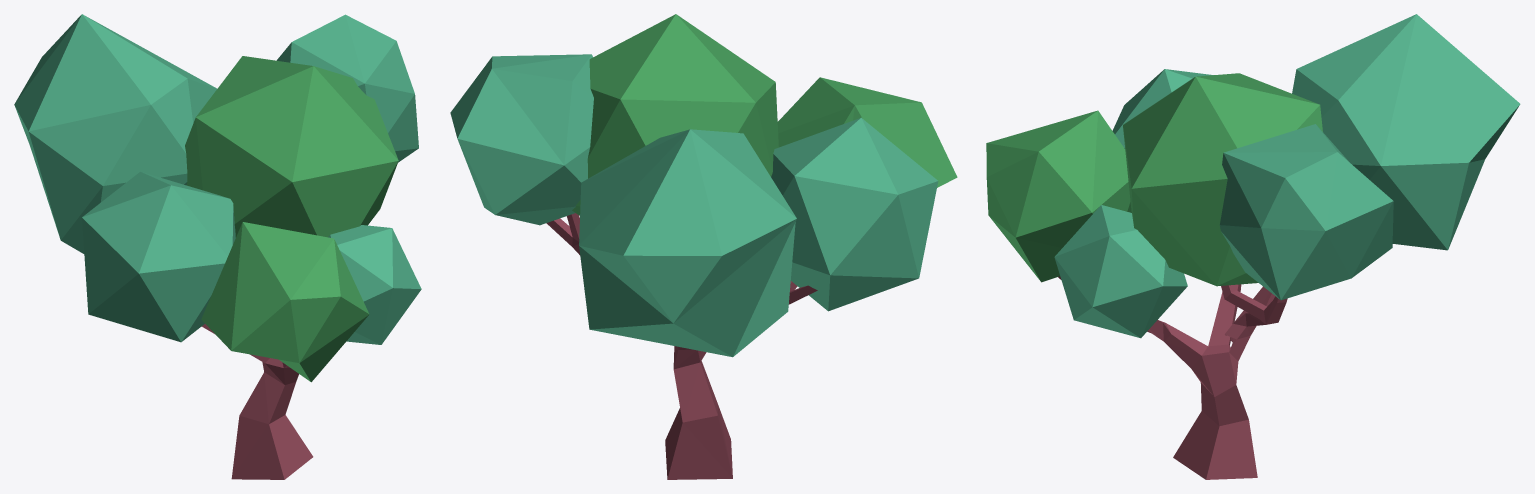
The model's file is big_tree_2.fbx.
3 renders of one model, left to right at view 1: azimuth 30°, elevation 25°; view 2: azimuth 150°, elevation 25°; view 3: azimuth 270°, elevation 25°, orthographic. The views are drawn at different scales.
Visible parts, largest first — view 1: Icosphere.004, Icosphere.002, Icosphere.005, Icosphere.001, Icosphere, wood, Icosphere.003; view 2: Icosphere.002, Icosphere.005, Icosphere, Icosphere.004, Icosphere.001, wood; view 3: Icosphere.002, Icosphere.004, Icosphere, Icosphere.001, wood, Icosphere.003, Icosphere.005.
Boxes of the visible parts, x1=… form: Icosphere.004: x1=185, y1=56, x2=398, y2=237; Icosphere.002: x1=14, y1=14, x2=216, y2=253; Icosphere.005: x1=82, y1=171, x2=235, y2=342; Icosphere.001: x1=201, y1=222, x2=369, y2=382; Icosphere: x1=277, y1=14, x2=418, y2=162; wood: x1=202, y1=324, x2=313, y2=479; Icosphere.003: x1=328, y1=225, x2=421, y2=344; Icosphere.002: x1=579, y1=129, x2=796, y2=357; Icosphere.005: x1=771, y1=117, x2=938, y2=311; Icosphere: x1=450, y1=54, x2=593, y2=225; Icosphere.004: x1=572, y1=14, x2=778, y2=215; Icosphere.001: x1=777, y1=77, x2=957, y2=187; wood: x1=546, y1=213, x2=817, y2=479; Icosphere.002: x1=1292, y1=14, x2=1520, y2=250; Icosphere.004: x1=1123, y1=73, x2=1322, y2=286; Icosphere: x1=1219, y1=124, x2=1393, y2=300; Icosphere.001: x1=986, y1=110, x2=1131, y2=282; wood: x1=1058, y1=276, x2=1287, y2=479; Icosphere.003: x1=1054, y1=205, x2=1187, y2=338; Icosphere.005: x1=1112, y1=69, x2=1213, y2=148.
Bounding box in the file's own units: 554 × 453 × 474.
